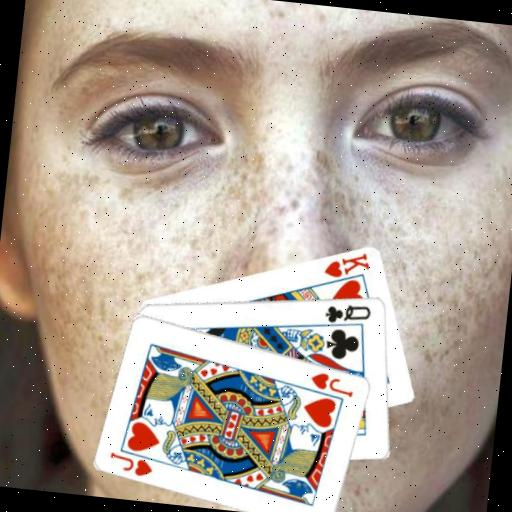JH: (307, 368, 357, 399), (106, 449, 156, 479)
KH: (320, 245, 373, 282)
QC: (321, 299, 373, 329)
